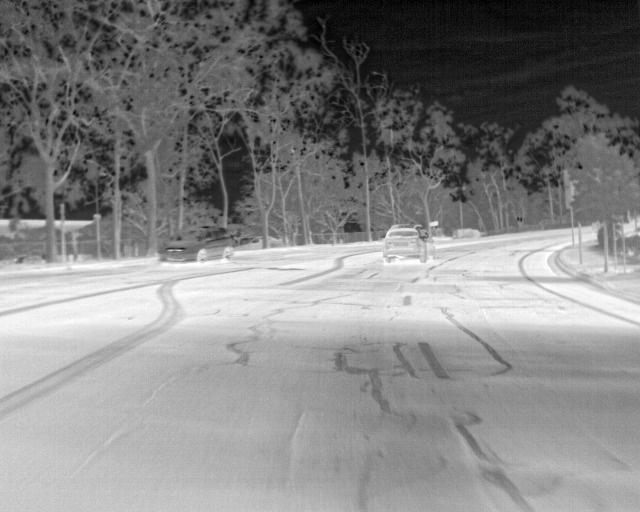car: (160, 224, 237, 263), (381, 224, 437, 264), (234, 234, 263, 251)
